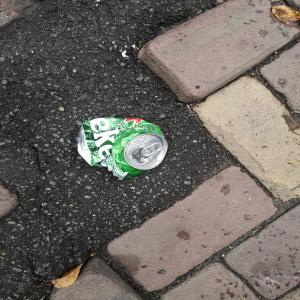Can: (77, 117, 170, 183)
